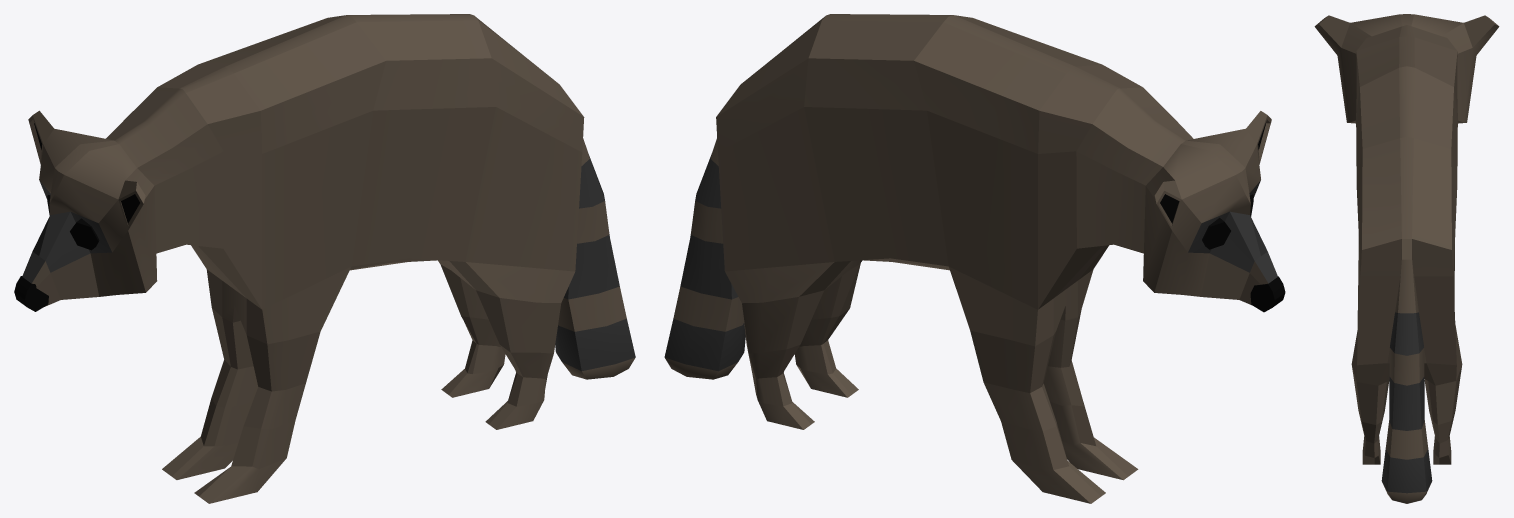
The model's file is raccoon.fbx.
3 renders of one model, left to right at view 1: azimuth 30°, elevation 25°; view 2: azimuth 150°, elevation 25°; view 3: azimuth 270°, elevation 25°, orthographic. The views are drawn at different scales.
Parts seen in each view (by area): view 1: raccoon; view 2: raccoon; view 3: raccoon.
Part boxes in pixels (left/top/right/bottom): raccoon: left=14, top=14, right=635, bottom=503; raccoon: left=664, top=14, right=1285, bottom=503; raccoon: left=1314, top=14, right=1499, bottom=503.
Bounding box in the file's own units: 8.36 × 5.61 × 2.74.
